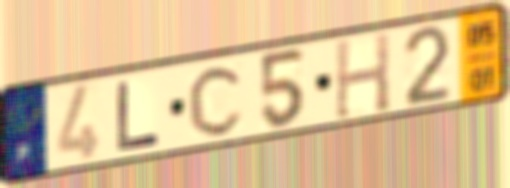2: (401, 23, 454, 110)
4: (53, 79, 105, 165)
5: (258, 43, 308, 133)
C: (186, 62, 248, 139)
H: (332, 29, 393, 122)
L: (113, 77, 164, 155)
